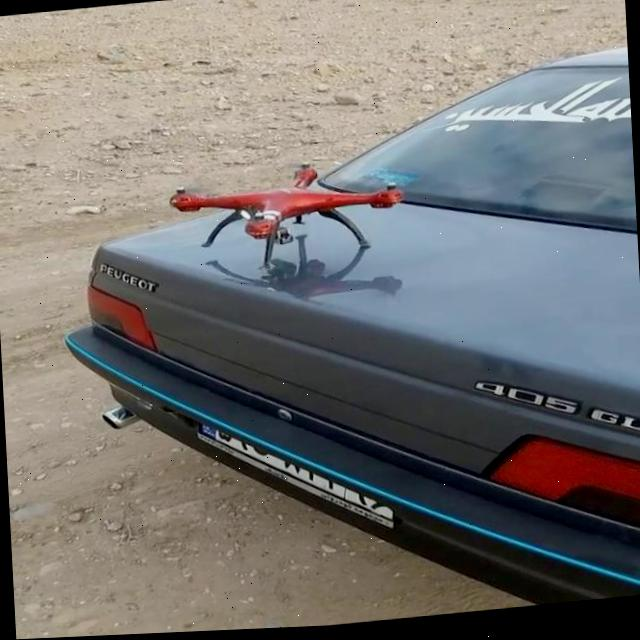drone: (156, 151, 424, 287)
